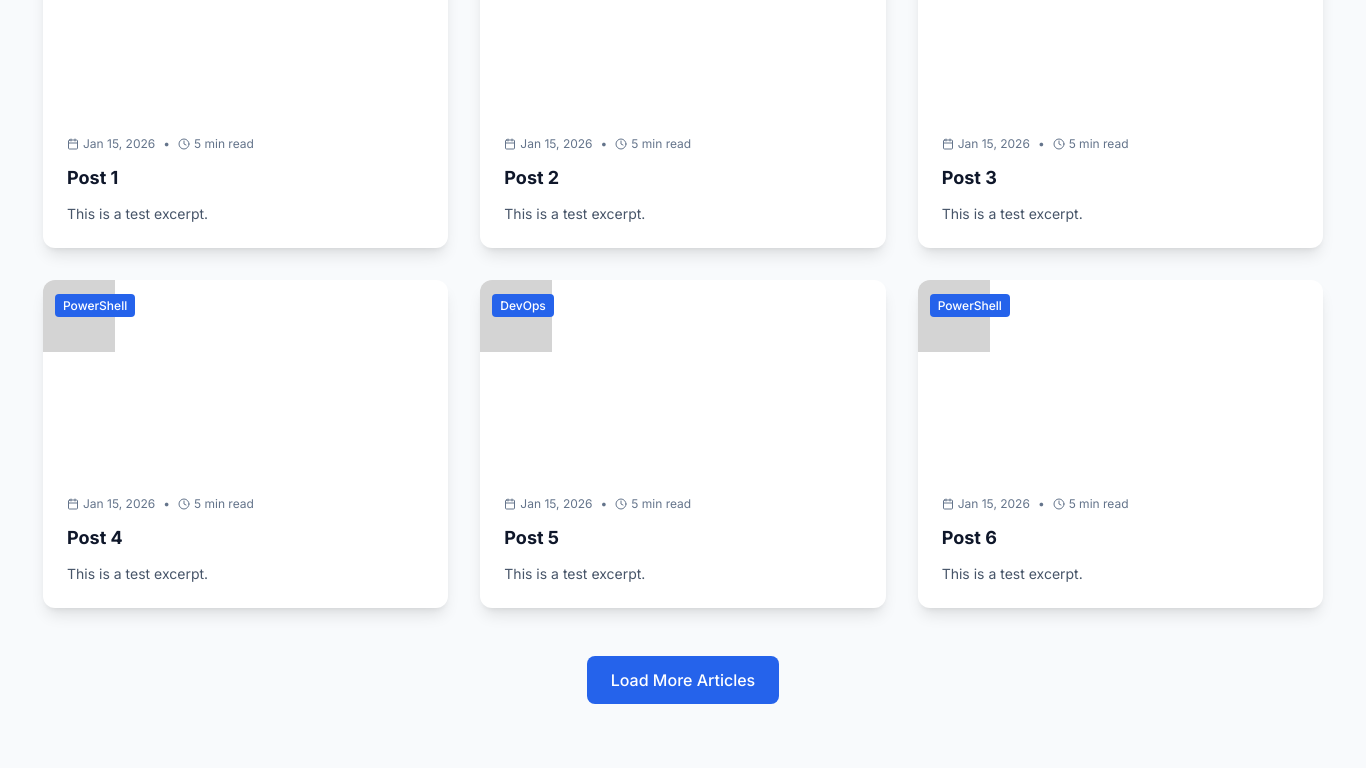
Test: BlogPostGrid › hides Load More button when all posts are visible
(page scrolled)
What coordinates should you click on to do the following:
click the button "Load More Articles"
I would click on:
 (683, 680)
Its box is [587, 656, 779, 704].
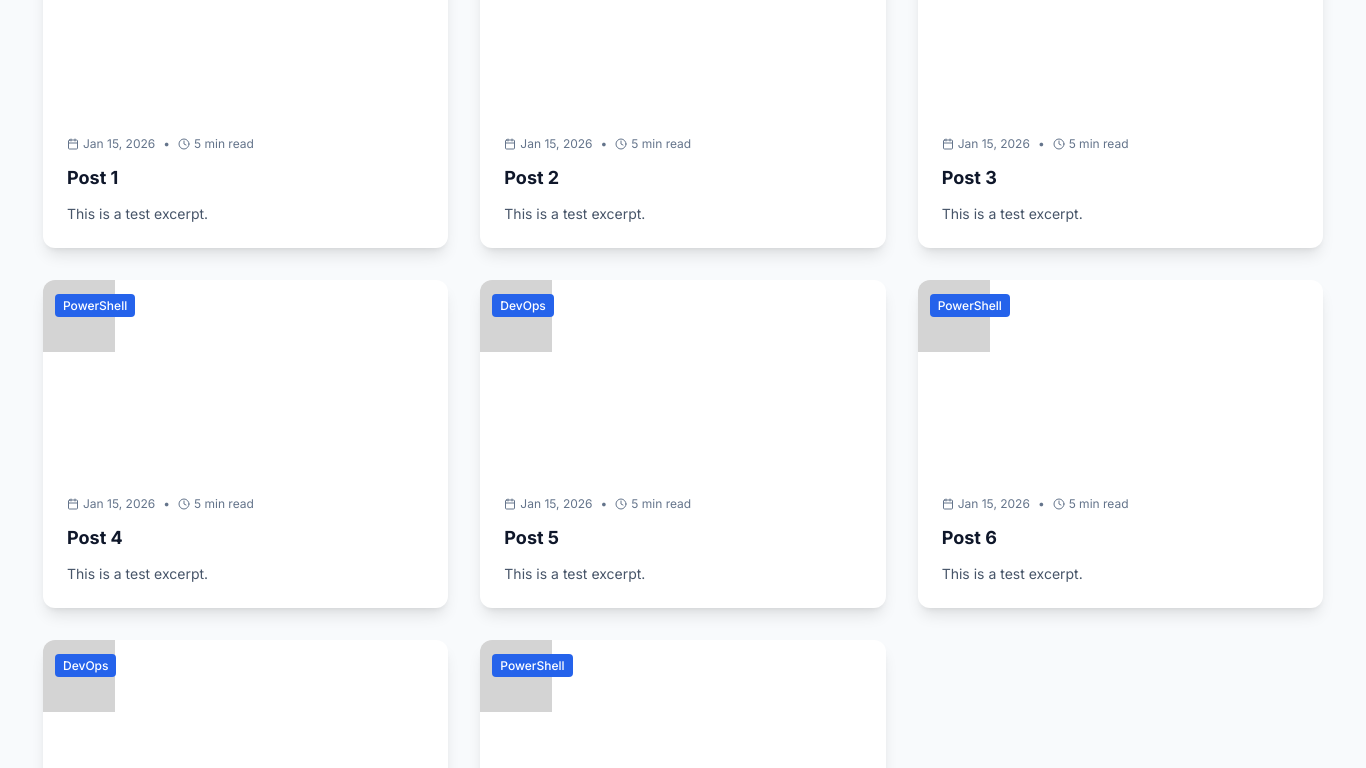
Result: the button "Load More Articles" is gone
